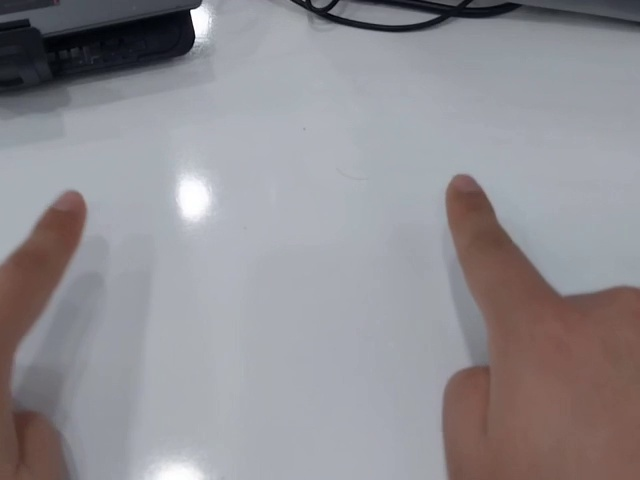fingers: (41, 188, 88, 242), (445, 172, 493, 218)
